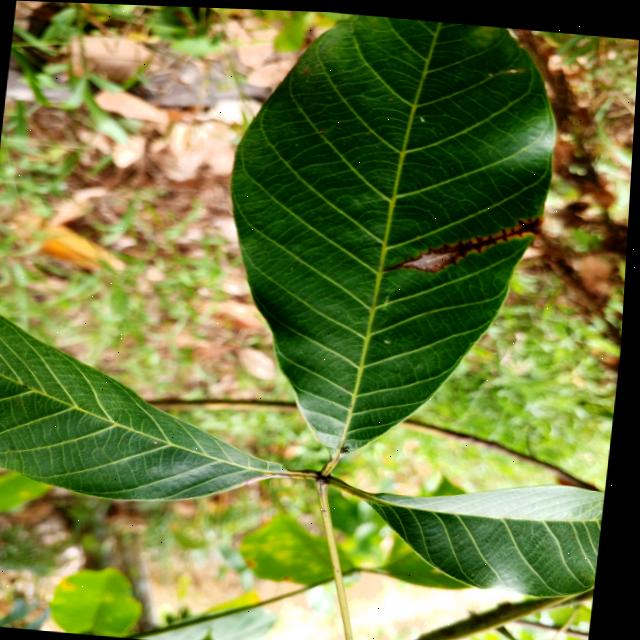Corynespora: (386, 202, 543, 282)
